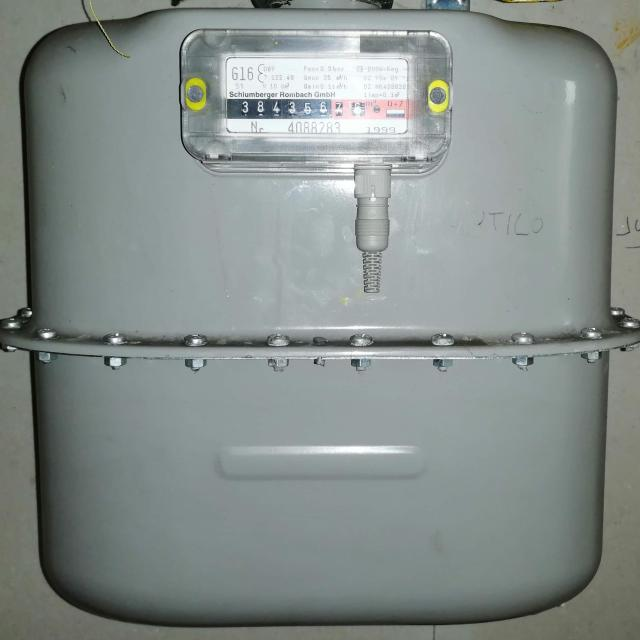gaz_meter: (222, 52, 415, 144)
indication: (232, 101, 364, 117)
